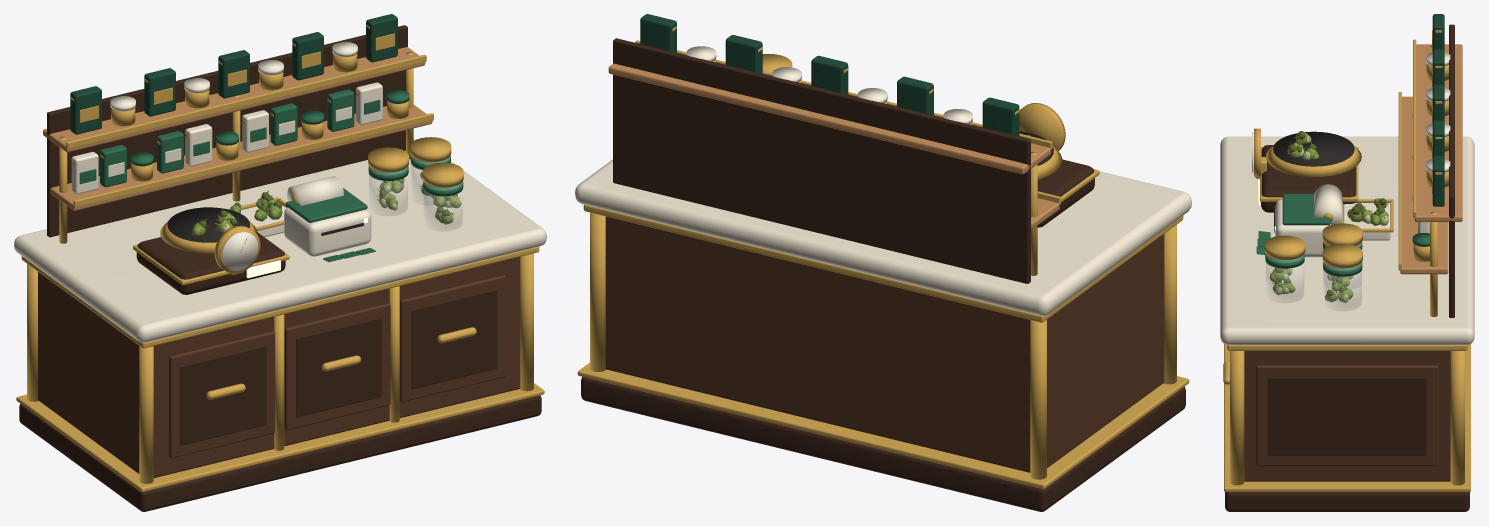
The model's file is pack_bench_tier4.glb.
3 renders of one model, left to right at view 1: azimuth 30°, elevation 25°; view 2: azimuth 150°, elevation 25°; view 3: azimuth 270°, elevation 25°, orthographic. The views are drawn at different scales.
Parts seen in each view (by area): view 1: Top, Body, ShelfBack, Plinth, DrawerInset0, DrawerInset2, PlinthBrass, DrawerInset1, Drawer1, Drawer0, Drawer2, Shelf0 (+39 smaller); view 2: Body, ShelfBack, Top, Plinth, PlinthBrass, Shelf1, TopBand, Column-11, Column11, Column-1-1, ScaleBase, DialRim (+6 smaller); view 3: Top, EndInset, Body, EndPanel, Plinth, Shelf1, PlinthBrass, Shelf0, ScaleBase, Column1-1, Column11, ScalePanIn (+25 smaller).
Boxes of the visible parts, left/top/right/bottom form: Top: left=14, top=139, right=546, bottom=342; Body: left=38, top=257, right=520, bottom=477; ShelfBack: left=47, top=25, right=407, bottom=237; Plinth: left=19, top=395, right=541, bottom=511; DrawerInset0: left=180, top=346, right=266, bottom=445; DrawerInset2: left=411, top=289, right=497, bottom=389; PlinthBrass: left=16, top=383, right=544, bottom=492; DrawerInset1: left=296, top=317, right=381, bottom=417; Drawer1: left=284, top=303, right=390, bottom=430; Drawer0: left=169, top=331, right=274, bottom=458; Drawer2: left=400, top=275, right=505, bottom=401; Shelf0: left=50, top=105, right=432, bottom=210; Body: left=605, top=216, right=1164, bottom=472; ShelfBack: left=613, top=38, right=1030, bottom=283; Top: left=575, top=159, right=1191, bottom=315; Plinth: left=581, top=377, right=1185, bottom=511; PlinthBrass: left=577, top=363, right=1189, bottom=489; Shelf1: left=608, top=63, right=1050, bottom=174; TopBand: left=583, top=204, right=1183, bottom=322; Column-11: left=1030, top=320, right=1046, bottom=479; Column11: left=590, top=212, right=606, bottom=371; Column-1-1: left=1163, top=224, right=1176, bottom=384; ScaleBase: left=1037, top=159, right=1094, bottom=227; DialRim: left=1019, top=103, right=1065, bottom=151; Top: left=1220, top=136, right=1474, bottom=345; EndInset: left=1268, top=377, right=1426, bottom=455; Body: left=1244, top=351, right=1450, bottom=481; EndPanel: left=1256, top=365, right=1438, bottom=466; Plinth: left=1225, top=492, right=1469, bottom=511; Shelf1: left=1414, top=44, right=1462, bottom=221; PlinthBrass: left=1224, top=344, right=1470, bottom=491; Shelf0: left=1400, top=96, right=1448, bottom=274; ScaleBase: left=1261, top=145, right=1356, bottom=212; Column1-1: left=1230, top=351, right=1244, bottom=485; Column11: left=1450, top=351, right=1464, bottom=485; ScalePanIn: left=1273, top=131, right=1354, bottom=166.
Bounding box in the file's own units: 1.94 × 1.5 × 1.06.
